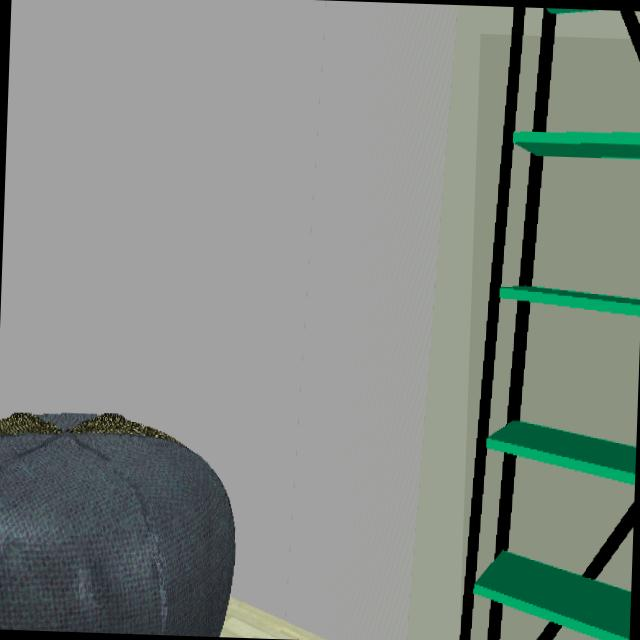shelf: (459, 34, 640, 640)
